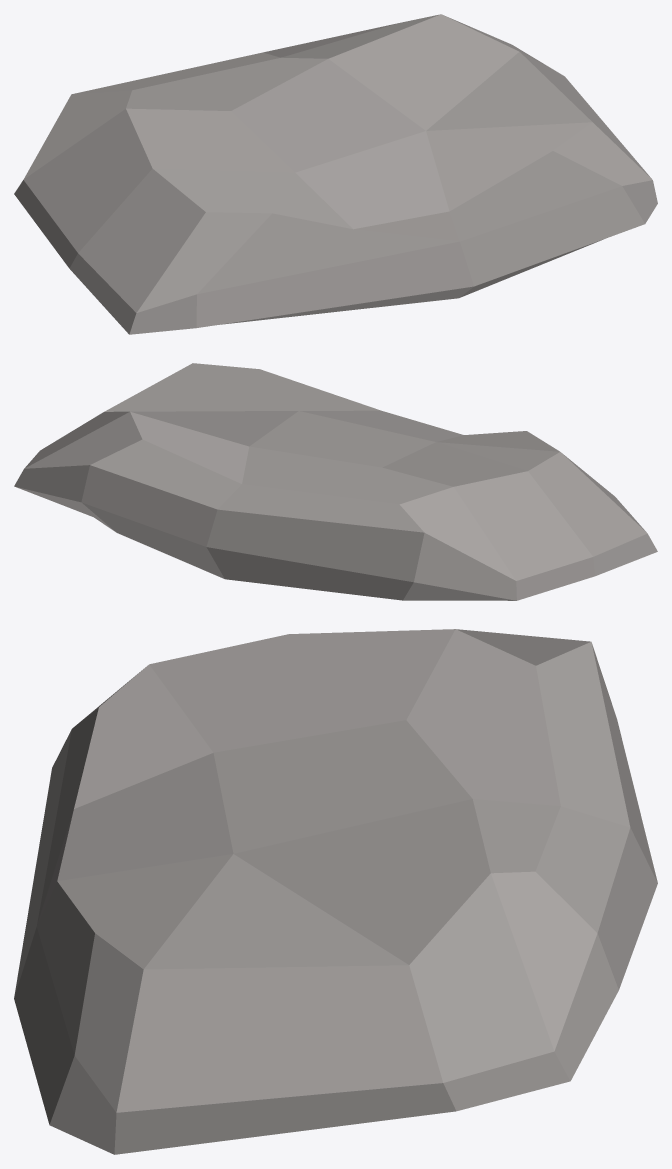
The model's file is SM_Prop_Bed_Pillow_01.glb.
3 views of the same model, one above another, from view 1: azimuth 30°, elevation 25°; view 2: azimuth 150°, elevation 25°; view 3: azimuth 270°, elevation 25° (orthographic). The views are drawn at different scales.
Visible parts, largest first — view 1: SM_Prop_Bed_Pillow_01; view 2: SM_Prop_Bed_Pillow_01; view 3: SM_Prop_Bed_Pillow_01.
Part boxes in pixels (x1,y1,x2,y2): SM_Prop_Bed_Pillow_01: [14, 14, 657, 334]; SM_Prop_Bed_Pillow_01: [14, 363, 657, 600]; SM_Prop_Bed_Pillow_01: [14, 629, 657, 1154].
Size of the model in its own units: 0.6831 by 0.1991 by 0.4382.
1 material, 1 textured.
